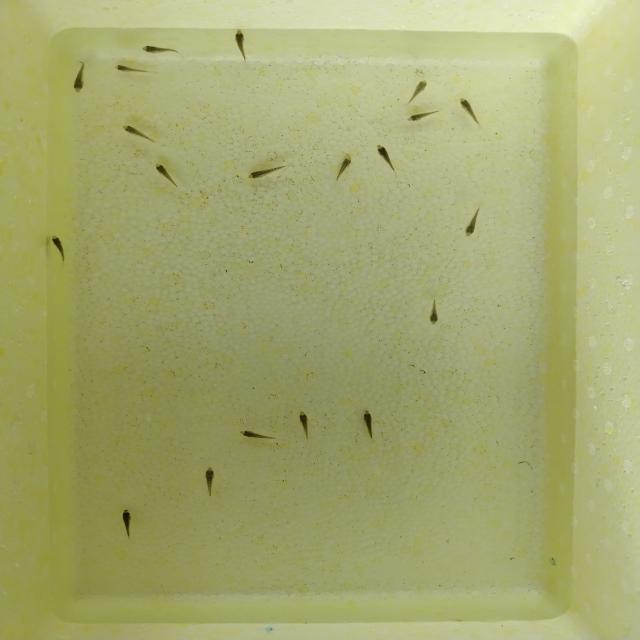fingerling: (243, 161, 300, 182), (372, 140, 401, 179), (291, 405, 318, 446), (116, 121, 160, 145), (150, 160, 183, 191), (456, 95, 486, 129), (229, 26, 253, 66), (461, 199, 485, 239), (67, 59, 92, 97), (46, 231, 72, 267), (357, 407, 381, 445), (330, 150, 356, 185), (234, 426, 283, 444), (199, 462, 220, 503), (117, 504, 138, 544), (403, 106, 444, 125), (111, 62, 156, 79), (405, 77, 432, 104), (138, 43, 185, 57), (425, 295, 443, 328)
